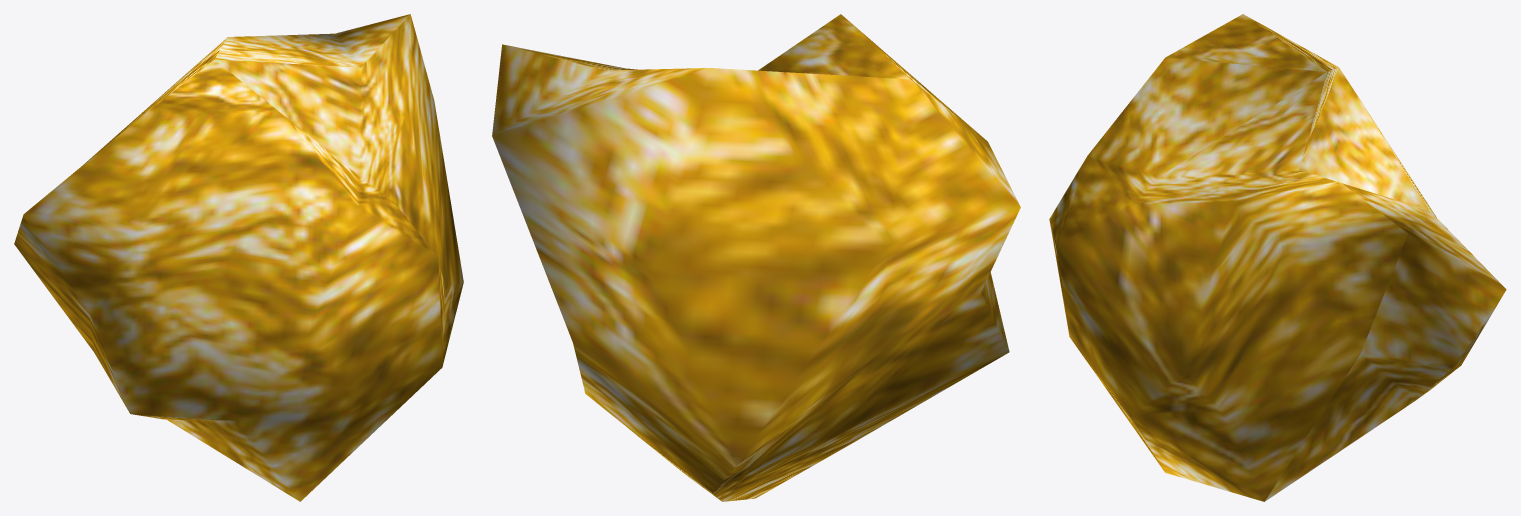
The model's file is Gold.FBX.
3 views of the same model, side by side, from view 1: azimuth 30°, elevation 25°; view 2: azimuth 150°, elevation 25°; view 3: azimuth 270°, elevation 25° (orthographic). The views are drawn at different scales.
Parts seen in each view (by area): view 1: GeoSphere001; view 2: GeoSphere001; view 3: GeoSphere001.
Boxes of the visible parts, x1,y1,x2,y2 form: GeoSphere001: (14, 14, 463, 501); GeoSphere001: (492, 14, 1020, 501); GeoSphere001: (1049, 14, 1506, 501).
Bounding box in the file's own units: 97.93 × 88.81 × 89.11.
